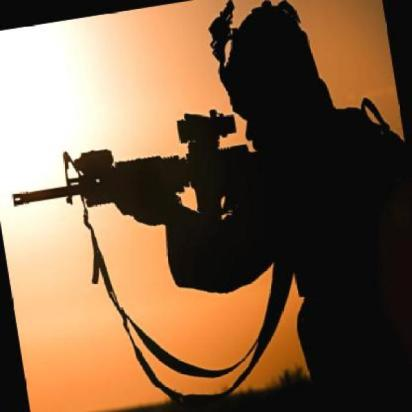Gun: (2, 95, 272, 260)
